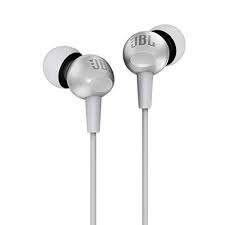earphone: (23, 7, 193, 204)
